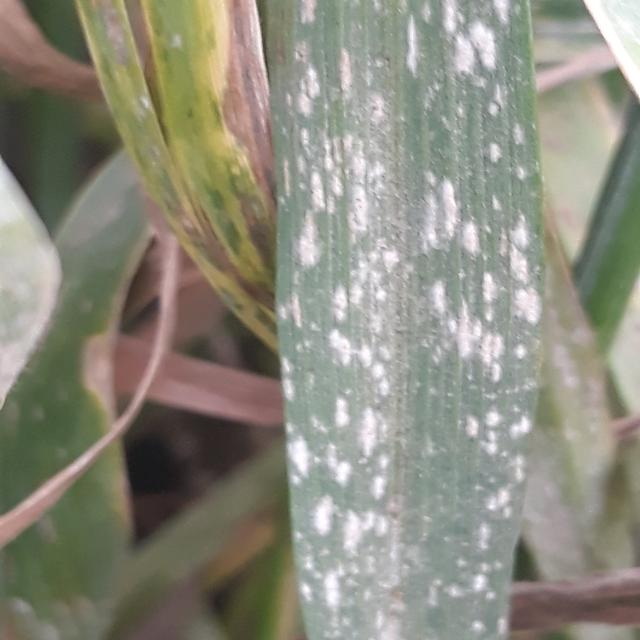powder_mildew: (262, 1, 551, 640), (76, 0, 316, 341)
